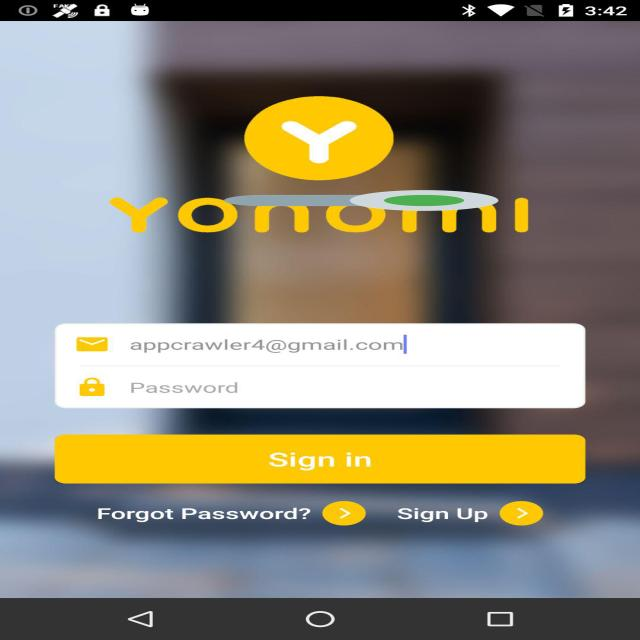social proof: (224, 181, 498, 220)
